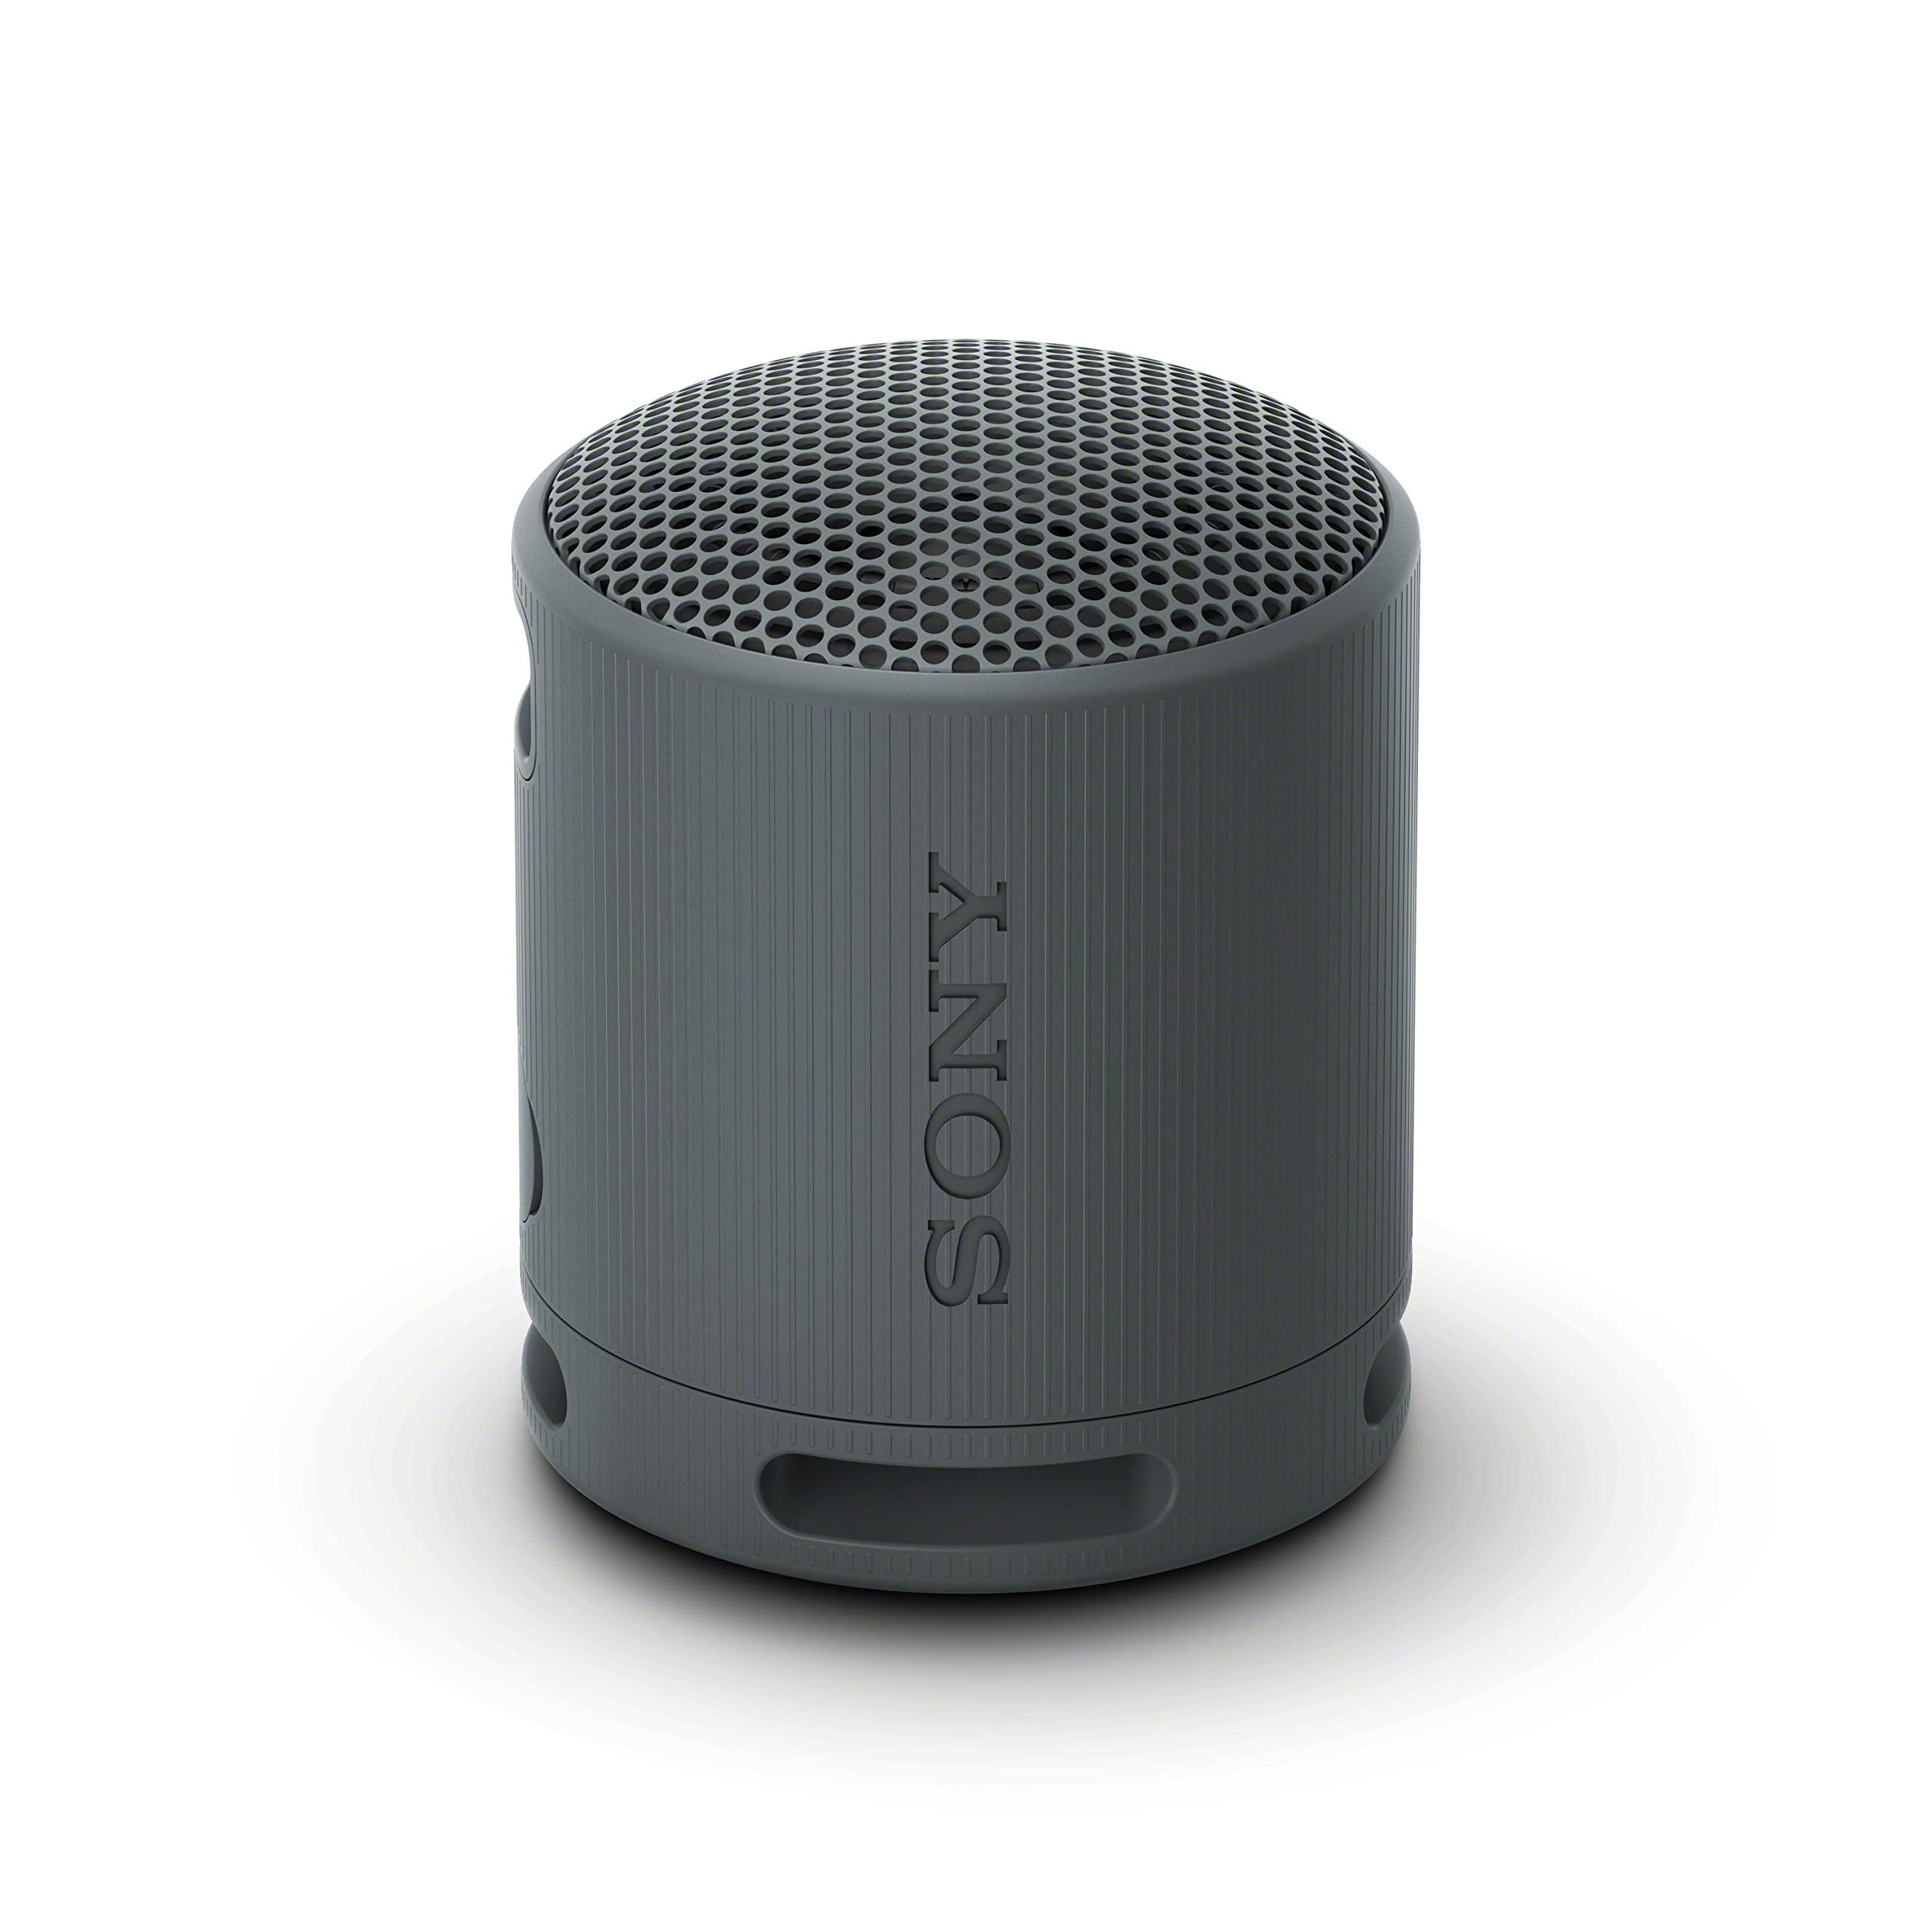speaker: (506, 336, 1428, 1612)
